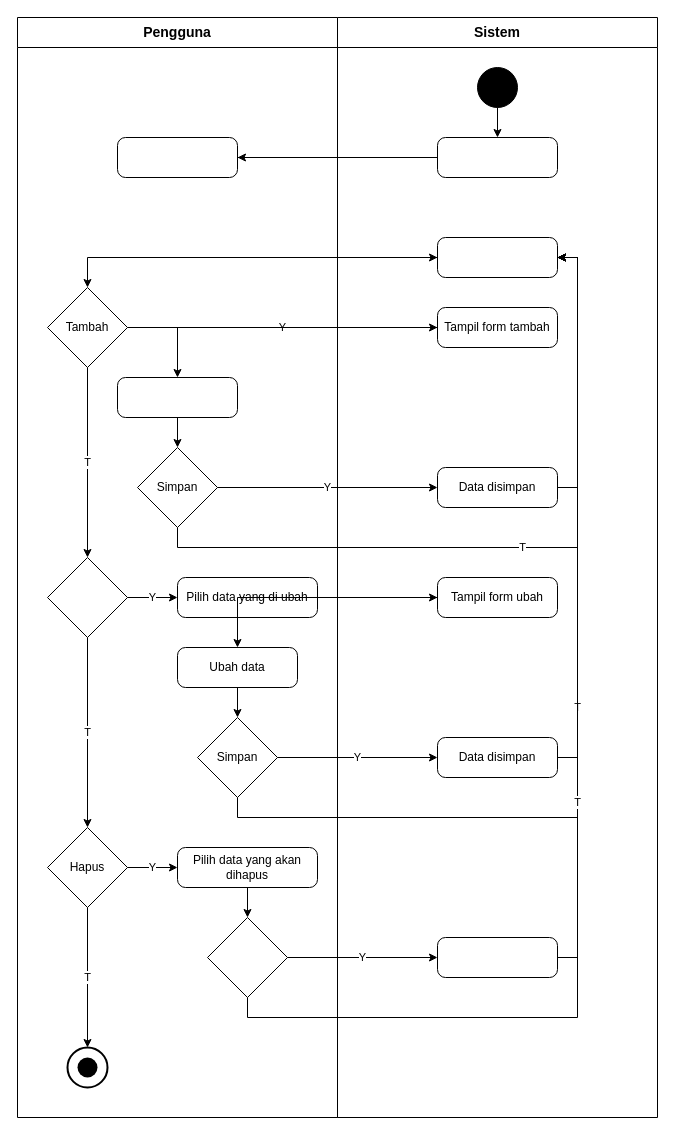
Image size: 675x1135. Some labels were removed from this diagram. Here are the shapes that lost their labels. From the top down, the centre of each, then its label:
At [177,157]: "Pilih menu pesanan_saya".
At [497,157]: "Tampil beranda".
At [497,257]: "Tampil data pesanan_saya".
At [177,397]: "Tambah data".
At [87,597]: "Ubah".
At [247,957]: "yakin hapus".
At [497,957]: "Data dihapus".
